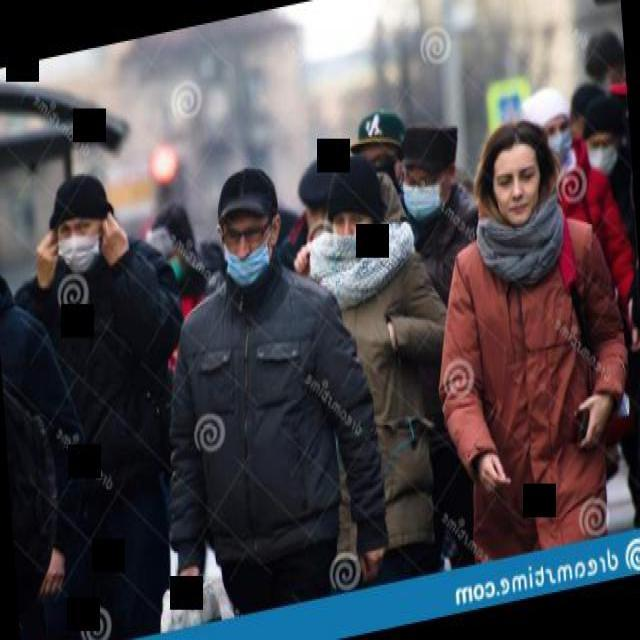hairnet: (222, 232, 273, 286)
